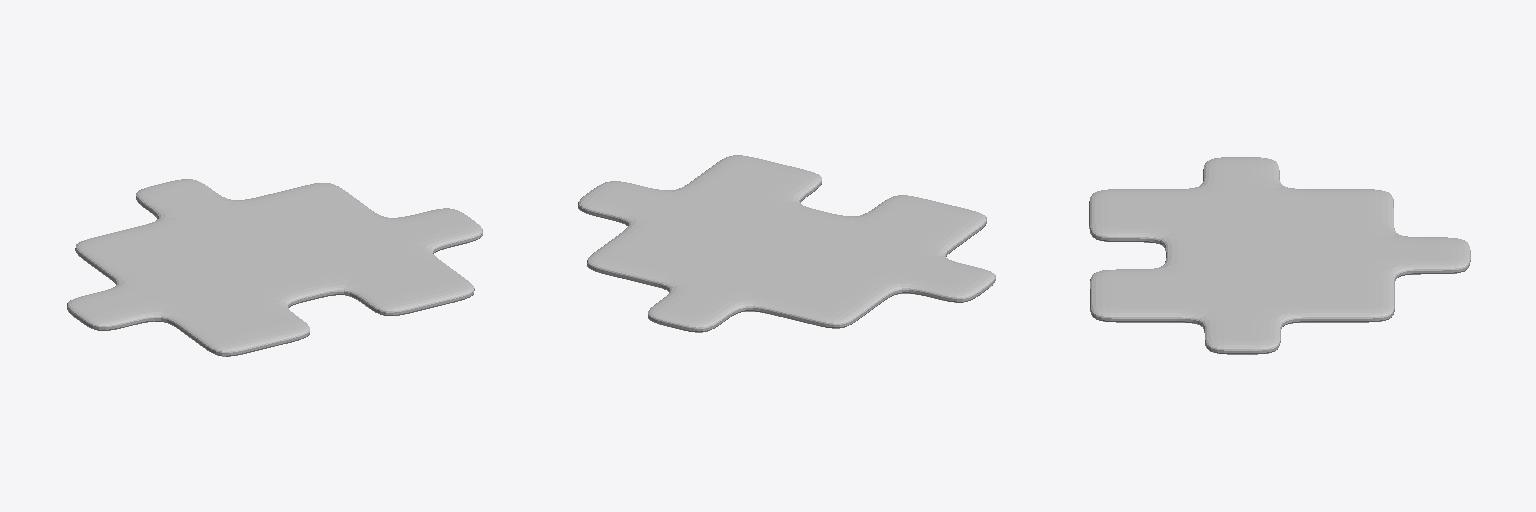
The model's file is GoldenPuzzle-05-MMMF.obj.
The picture shows the model from 3 angles: view 1: azimuth 30°, elevation 25°; view 2: azimuth 150°, elevation 25°; view 3: azimuth 270°, elevation 25°; orthographic projection.
Visible parts, largest first — view 1: Puzzle.005; view 2: Puzzle.005; view 3: Puzzle.005.
Boxes of the visible parts, <box> form: Puzzle.005: <box>67,179,482,356</box>; Puzzle.005: <box>578,155,995,332</box>; Puzzle.005: <box>1089,157,1470,354</box>.
Bounding box in the file's own units: 0.375 × 0.0092 × 0.3138.